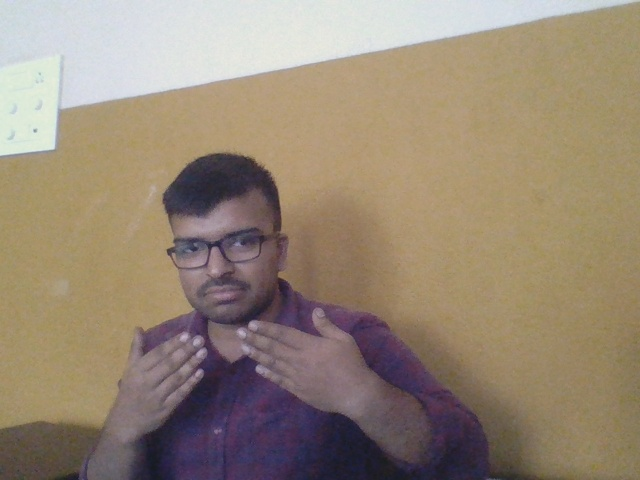Thank You: (106, 303, 383, 438)
